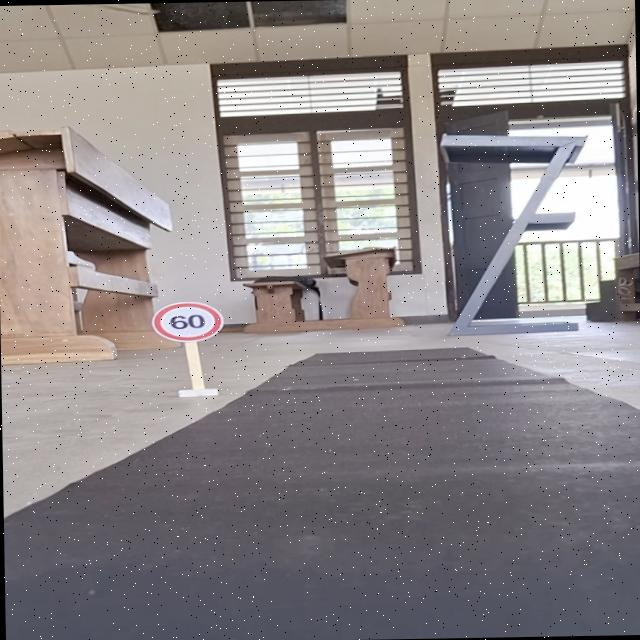Speed60: (148, 298, 228, 344)
